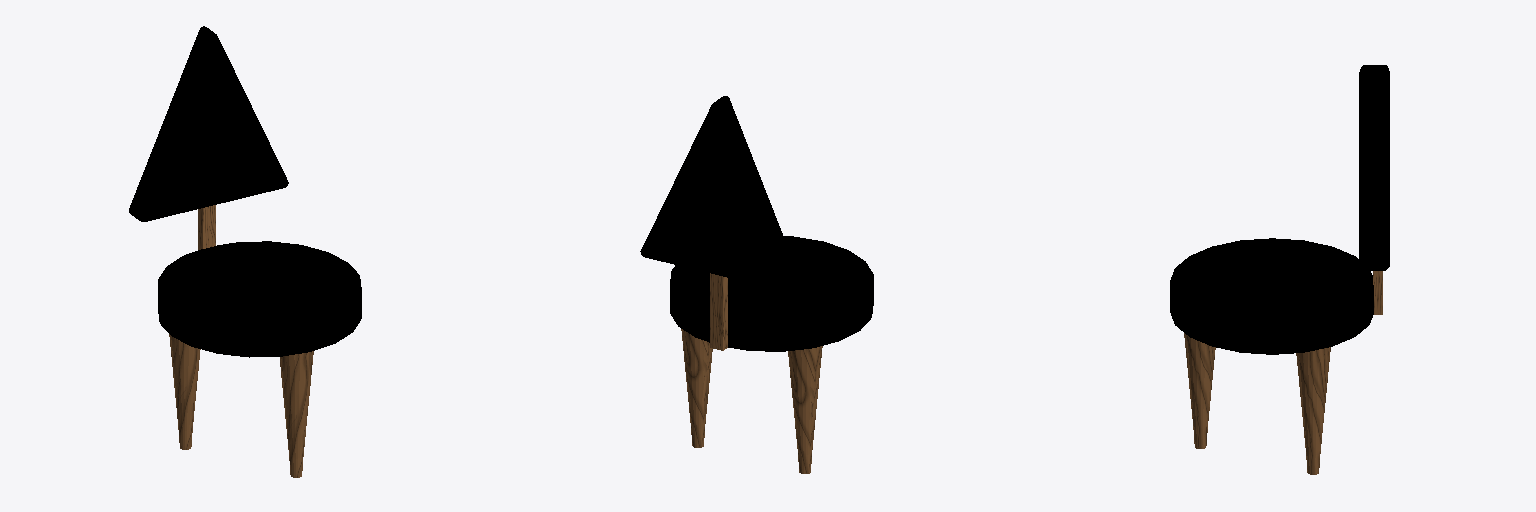
The picture shows the model from 3 angles: view 1: azimuth 30°, elevation 25°; view 2: azimuth 150°, elevation 25°; view 3: azimuth 270°, elevation 25°; orthographic projection.
Parts seen in each view (by area): view 1: pasted__polySurface186 group; view 2: pasted__polySurface186 group; view 3: pasted__polySurface186 group.
Part boxes in pixels (left/top/right/bottom): pasted__polySurface186 group: left=129, top=26, right=361, bottom=477; pasted__polySurface186 group: left=640, top=96, right=873, bottom=473; pasted__polySurface186 group: left=1170, top=65, right=1389, bottom=474.
Size of the model in its own units: 0.9266 by 1.9 by 0.9961.
2 materials, 1 textured.